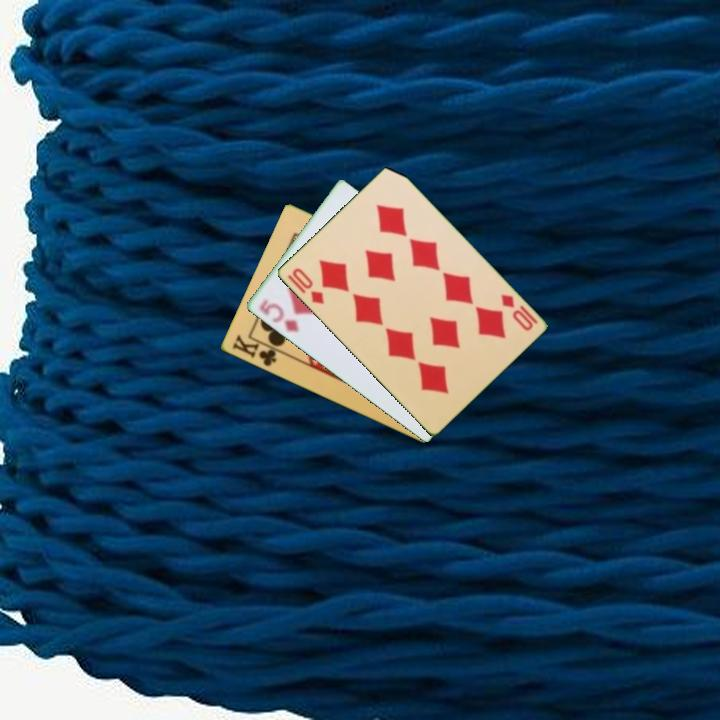10d: (497, 290, 541, 334), (288, 264, 327, 307)
5d: (256, 296, 301, 335)
Kc: (228, 331, 285, 369)
